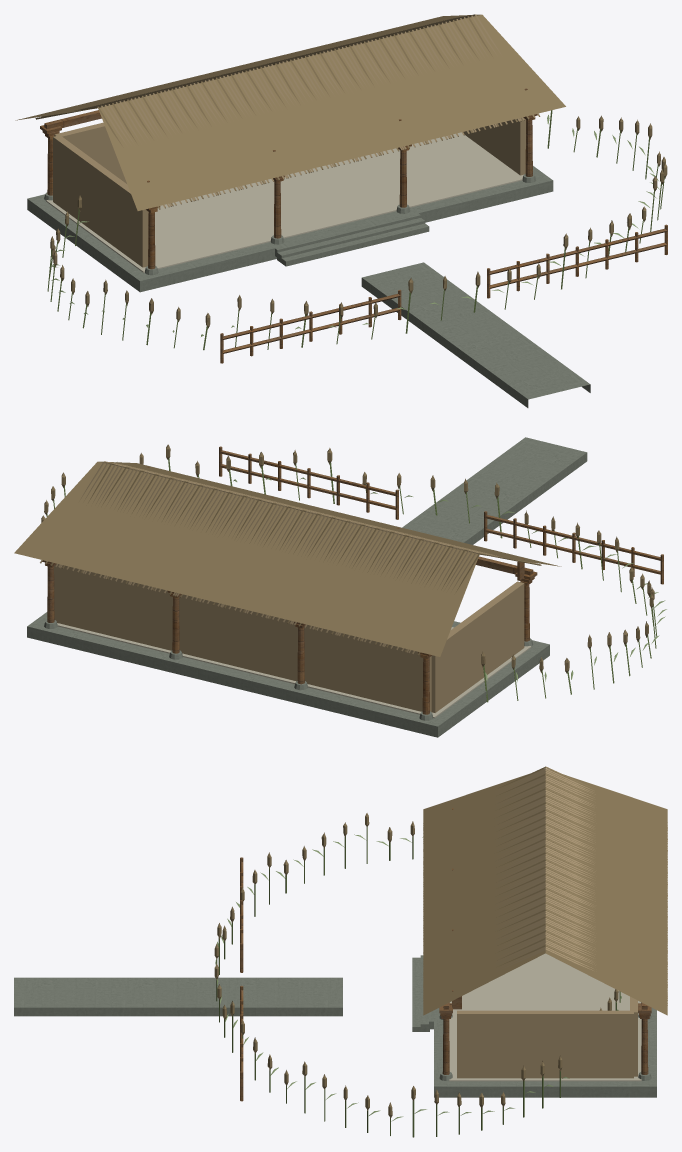
Rendered from public_models_places_luxuean.glb.
3 views of the same model, one above another, from view 1: azimuth 30°, elevation 25°; view 2: azimuth 150°, elevation 25°; view 3: azimuth 270°, elevation 25° (orthographic).
Parts seen in each view (by area): view 1: luxuean_thatch, luxuean_stone, luxuean_paving, luxuean_clay, luxuean_wood, luxuean_bamboo; view 2: luxuean_thatch, luxuean_clay, luxuean_stone, luxuean_wood, luxuean_paving, luxuean_bamboo; view 3: luxuean_thatch, luxuean_clay, luxuean_stone, luxuean_paving, luxuean_wood, luxuean_bamboo, luxuean_lightleaf.
Part boxes in pixels (x1,y1,x2,y2): luxuean_thatch: (15,14,667,328); luxuean_stone: (27,166,590,407); luxuean_paving: (46,132,523,272); luxuean_clay: (41,14,540,267); luxuean_wood: (40,88,667,363); luxuean_bamboo: (47,110,664,350); luxuean_thatch: (14,444,654,673); luxuean_clay: (40,461,535,712); luxuean_stone: (27,437,587,737); luxuean_wood: (42,446,663,714); luxuean_paving: (57,623,531,718); luxuean_bamboo: (46,458,657,702); luxuean_thatch: (214,766,667,1118); luxuean_clay: (457,768,667,1078); luxuean_stone: (14,955,656,1097); luxuean_paving: (449,953,641,1081); luxuean_wood: (240,808,651,1101); luxuean_bamboo: (216,827,620,1137); luxuean_lightleaf: (215,834,621,1121).
Size of the model in its own units: 26.34 by 6.21 by 25.84.
Materials: 7 (2 with a texture image).
